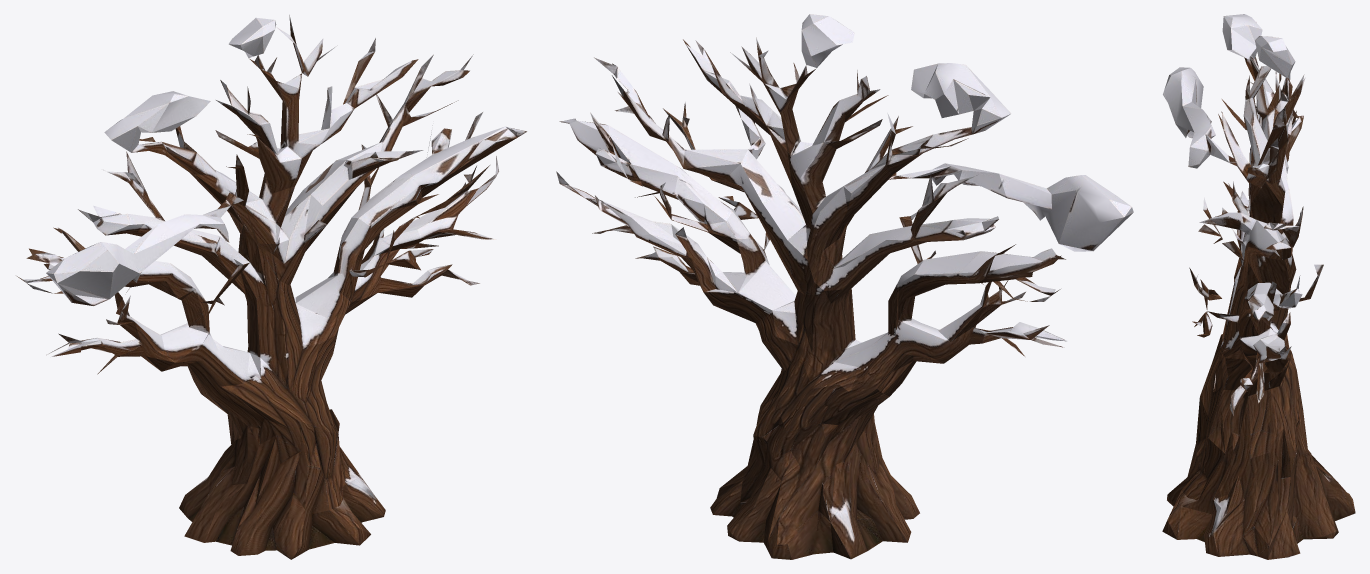
The model's file is tree_oak_winter.glb.
The picture shows the model from 3 angles, left to right: view 1: azimuth 30°, elevation 25°; view 2: azimuth 150°, elevation 25°; view 3: azimuth 270°, elevation 25°; orthographic projection. The views are drawn at different scales.
Visible parts, largest first — view 1: Mesh_0; view 2: Mesh_0; view 3: Mesh_0.
Boxes of the visible parts, <box> form: Mesh_0: <box>17,15,526,559</box>; Mesh_0: <box>556,14,1133,559</box>; Mesh_0: <box>1162,14,1355,559</box>.
Size of the model in its own units: 1.84 by 1.68 by 0.6207.
Materials: 1 (1 with a texture image).
